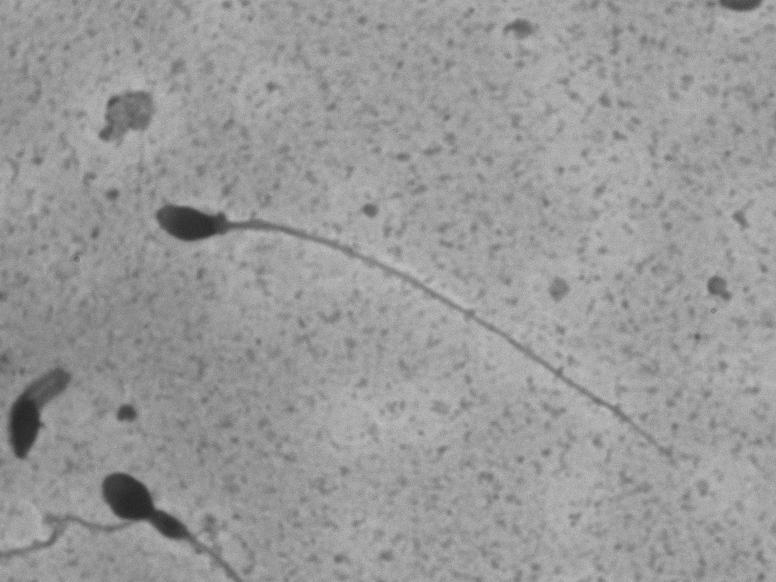Abnormal: (144, 136, 660, 454), (85, 453, 212, 579)
